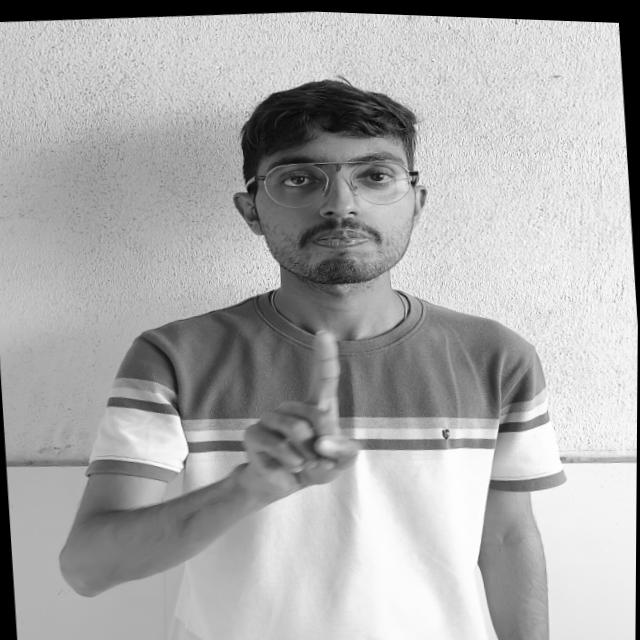Question: (136, 303, 452, 513)
